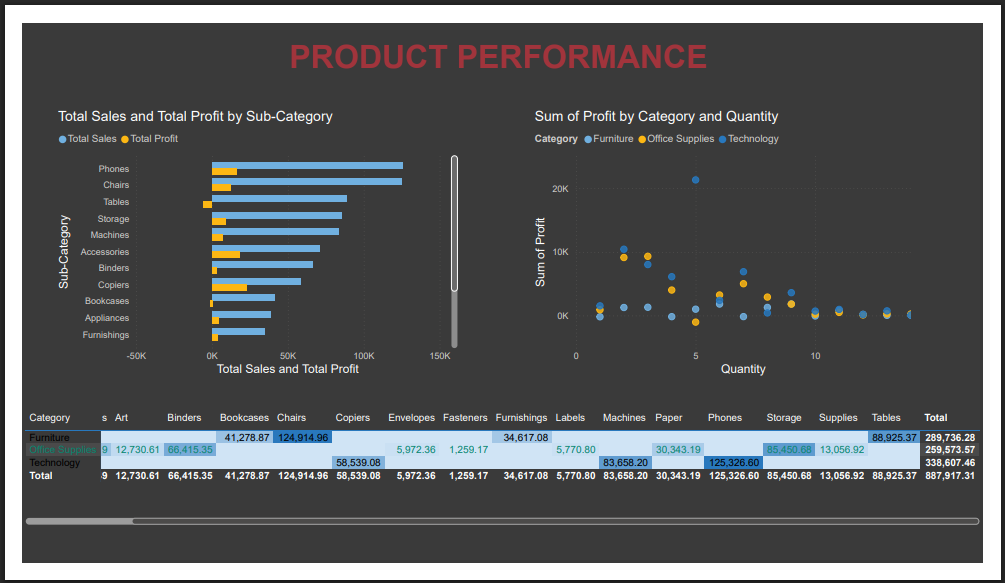

The page's visual inventory and layout, read from the dashboard file:
{"tool":"powerbi","page":{"name":"Page 3","canvas":[1280,720],"ordinal":2},"visuals":[{"type":"textbox","box":[176.1,17.4,917.4,97.8],"z":0},{"type":"clusteredBarChart","fields":{"Category":["Sample - Superstore.Sub-Category"],"Y":["Sample - Superstore.Total Sales","Sample - Superstore.Total Profit"]},"box":[43.5,115.2,541.3,360.9],"z":1000},{"type":"scatterChart","fields":{"X":["Sample - Superstore.Quantity"],"Y":["Sum(Sample - Superstore.Profit)"],"Series":["Sample - Superstore.Category"]},"box":[678.3,115.2,517.4,360.9],"z":1001},{"type":"pivotTable","fields":{"Rows":["Sample - Superstore.Category"],"Columns":["Sample - Superstore.Sub-Category"],"Values":["Sample - Superstore.Total Sales"]},"box":[0,513,1280.4,160.9],"z":1002}]}

Visuals, with their boxes on the page's 1280x720 design canvas (x1, y1, x2, y2). These are canvas units, not pixel positions in the 1005x583 screenshot, which may show the page scaled, cropped or inside an application window:
textbox: (left=176, top=17, right=1094, bottom=115)
clusteredBarChart - Sample - Superstore.Sub-Category x Sample - Superstore.Total Sales: (left=44, top=115, right=585, bottom=476)
scatterChart - Sample - Superstore.Quantity x Sum(Sample - Superstore.Profit): (left=678, top=115, right=1196, bottom=476)
pivotTable - Sample - Superstore.Category x Sample - Superstore.Sub-Category: (left=0, top=513, right=1280, bottom=674)
